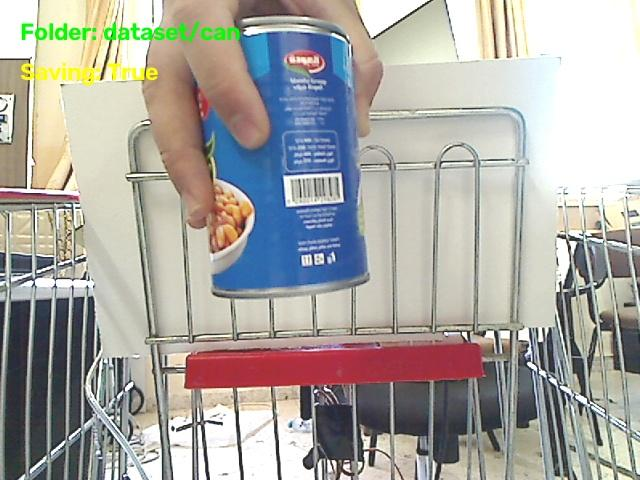can: (199, 16, 368, 297)
